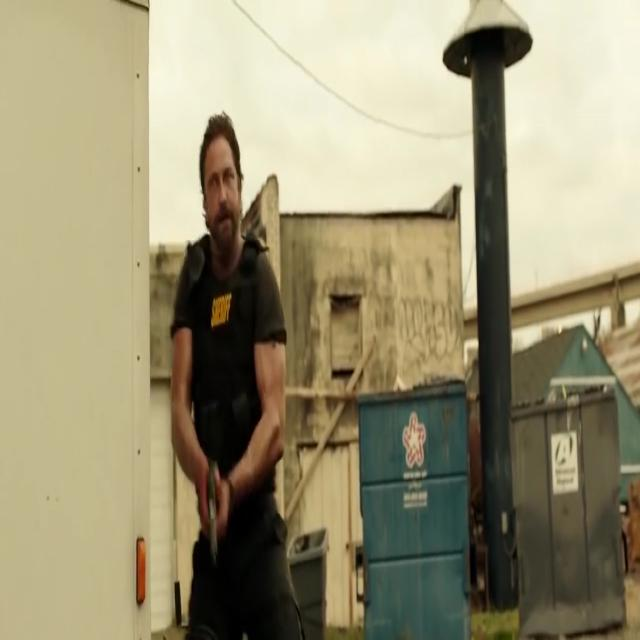Weapon: (194, 440, 238, 571)
